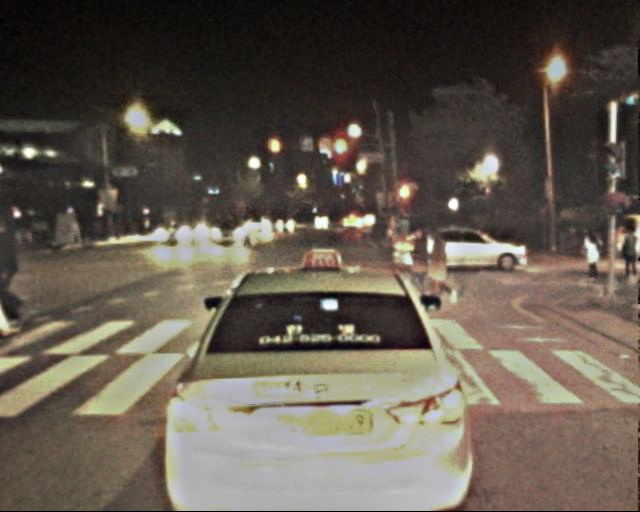person: (1, 214, 34, 329), (415, 230, 460, 309), (579, 229, 604, 289), (617, 226, 640, 285)
